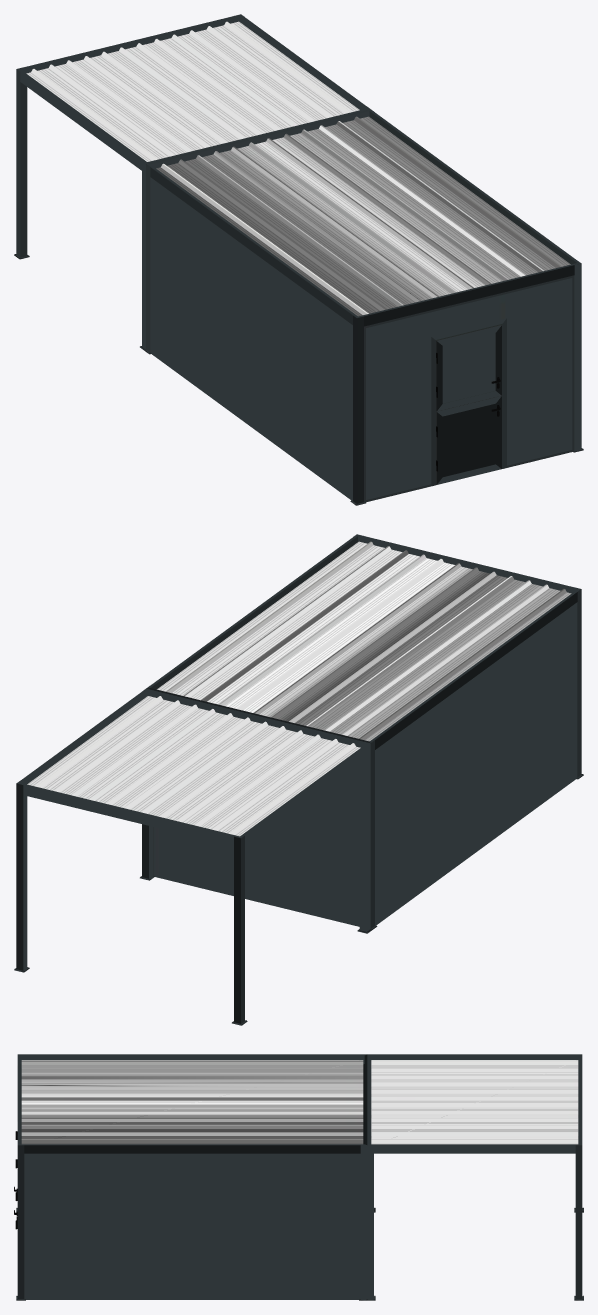
File: 13444_carport3x3abri5x3.fbx
3 views of the same model, one above another, from view 1: azimuth 30°, elevation 25°; view 2: azimuth 150°, elevation 25°; view 3: azimuth 270°, elevation 25° (orthographic). The views are drawn at different scales.
Parts seen in each view (by area): view 1: priximbattable_net_box_a_cheval_13444_module_carport_box_che, folhabaixo, folhacima, porta; view 2: priximbattable_net_box_a_cheval_13444_module_carport_box_che; view 3: priximbattable_net_box_a_cheval_13444_module_carport_box_che.
Part boxes in pixels (x1,y1,x2,y2): priximbattable_net_box_a_cheval_13444_module_carport_box_che: (14,14,583,505); folhabaixo: (436,396,501,484); folhacima: (436,325,501,411); porta: (431,318,506,486); priximbattable_net_box_a_cheval_13444_module_carport_box_che: (14,534,583,1025); priximbattable_net_box_a_cheval_13444_module_carport_box_che: (16,1054,583,1300).
Size of the model in its own units: 324 by 254 by 848.
1 material, 1 textured.
